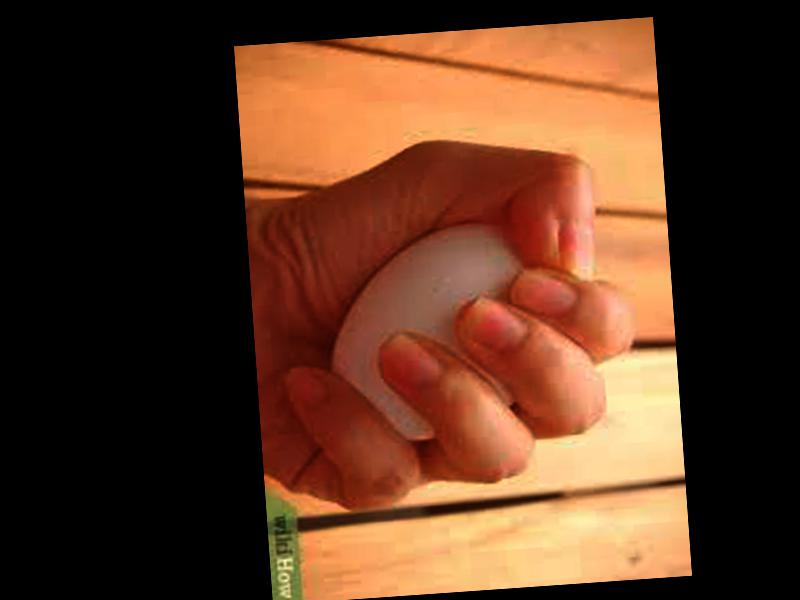Eggs: (322, 219, 557, 449)
